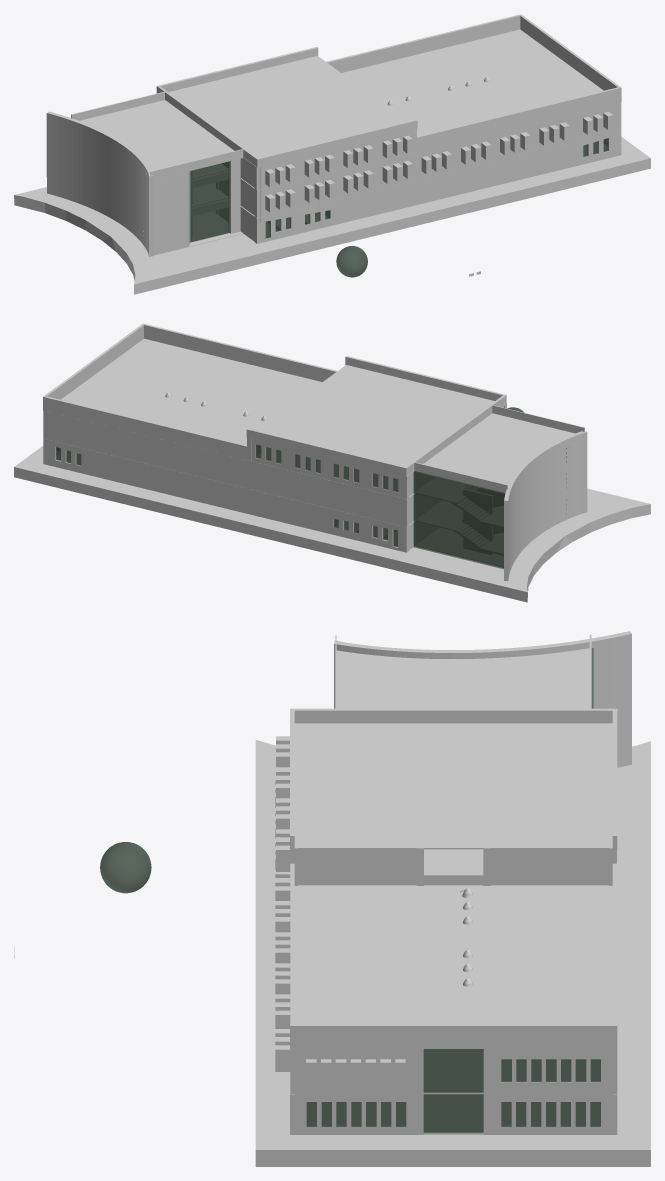
File: Edificio_C.fbx
The picture shows the model from 3 angles, top to bottom: view 1: azimuth 30°, elevation 25°; view 2: azimuth 150°, elevation 25°; view 3: azimuth 270°, elevation 25°; orthographic projection. The views are drawn at different scales.
Visible parts, largest first — view 1: Base_Edifico, Techo_Piso2, Techo_Piso3, Pared_Curva, Pared_Ventanas, Barandal_Techo, Pared_Ventana, Barandal_Techo2, Techo_Curva, Forma_Venta.002, Paredes_Curva, Vidrio_Principal (+10 smaller); view 2: Techo_Piso2, Base_Edifico, Techo_Piso3, Pared_Ventana.001, Salon1-4|Pared_Ventanas|Dupli|2, Barandal_Techo, Pared_Curva, Vidrio_Pared, Barandal_Techo2, Techo_Curva, Pared_Ventanas.002, Escaleras (+10 smaller); view 3: Techo_Piso2, Techo_Piso3, Base_Edifico, Techo_Curva, Barandal_Techo, Barandal_Techo2, Pared_Curva, Vidrio_Pasillo, Laboratorio_Compu.001, Laboratorio_Compu.002, Techo_Piso1, Pared_Ventana_Baño.001 (+13 smaller).
Part boxes in pixels (x1=…): Base_Edifico: x1=14, y1=137, x2=650, y2=294; Techo_Piso2: x1=223, y1=29, x2=603, y2=190; Techo_Piso3: x1=165, y1=56, x2=416, y2=167; Pared_Curva: x1=46, y1=111, x2=153, y2=256; Pared_Ventanas: x1=261, y1=130, x2=621, y2=242; Barandal_Techo: x1=326, y1=14, x2=621, y2=151; Pared_Ventana: x1=260, y1=102, x2=621, y2=222; Barandal_Techo2: x1=71, y1=47, x2=417, y2=178; Techo_Curva: x1=80, y1=100, x2=242, y2=179; Forma_Venta.002: x1=265, y1=111, x2=613, y2=212; Paredes_Curva: x1=153, y1=171, x2=191, y2=254; Vidrio_Principal: x1=190, y1=161, x2=229, y2=242; Techo_Piso2: x1=43, y1=338, x2=433, y2=499; Base_Edifico: x1=14, y1=446, x2=650, y2=602; Techo_Piso3: x1=248, y1=365, x2=506, y2=476; Pared_Ventana.001: x1=43, y1=411, x2=402, y2=530; Salon1-4|Pared_Ventanas|Dupli|2: x1=43, y1=439, x2=402, y2=551; Barandal_Techo: x1=43, y1=323, x2=337, y2=459; Pared_Curva: x1=504, y1=431, x2=587, y2=581; Vidrio_Pared: x1=413, y1=471, x2=505, y2=569; Barandal_Techo2: x1=246, y1=356, x2=584, y2=493; Techo_Curva: x1=415, y1=413, x2=579, y2=492; Pared_Ventanas.002: x1=251, y1=439, x2=402, y2=497; Escaleras: x1=452, y1=498, x2=503, y2=554; Techo_Piso2: x1=294, y1=849, x2=617, y2=1047; Techo_Piso3: x1=294, y1=723, x2=612, y2=849; Base_Edifico: x1=255, y1=740, x2=650, y2=1166; Techo_Curva: x1=336, y1=648, x2=589, y2=708; Barandal_Techo: x1=290, y1=863, x2=617, y2=1048; Barandal_Techo2: x1=290, y1=634, x2=617, y2=849; Pared_Curva: x1=334, y1=631, x2=631, y2=767; Vidrio_Pasillo: x1=423, y1=1049, x2=483, y2=1132; Laboratorio_Compu.001: x1=290, y1=848, x2=423, y2=885; Laboratorio_Compu.002: x1=483, y1=848, x2=616, y2=885; Techo_Piso1: x1=423, y1=849, x2=600, y2=1094; Pared_Ventana_Baño.001: x1=490, y1=1049, x2=612, y2=1101.
Bounding box in the file's own units: 6533 × 1148 × 4286.
